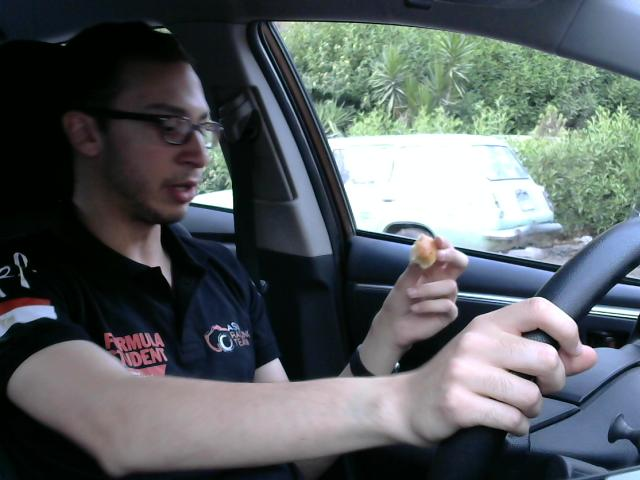Eating: (406, 224, 446, 272)
